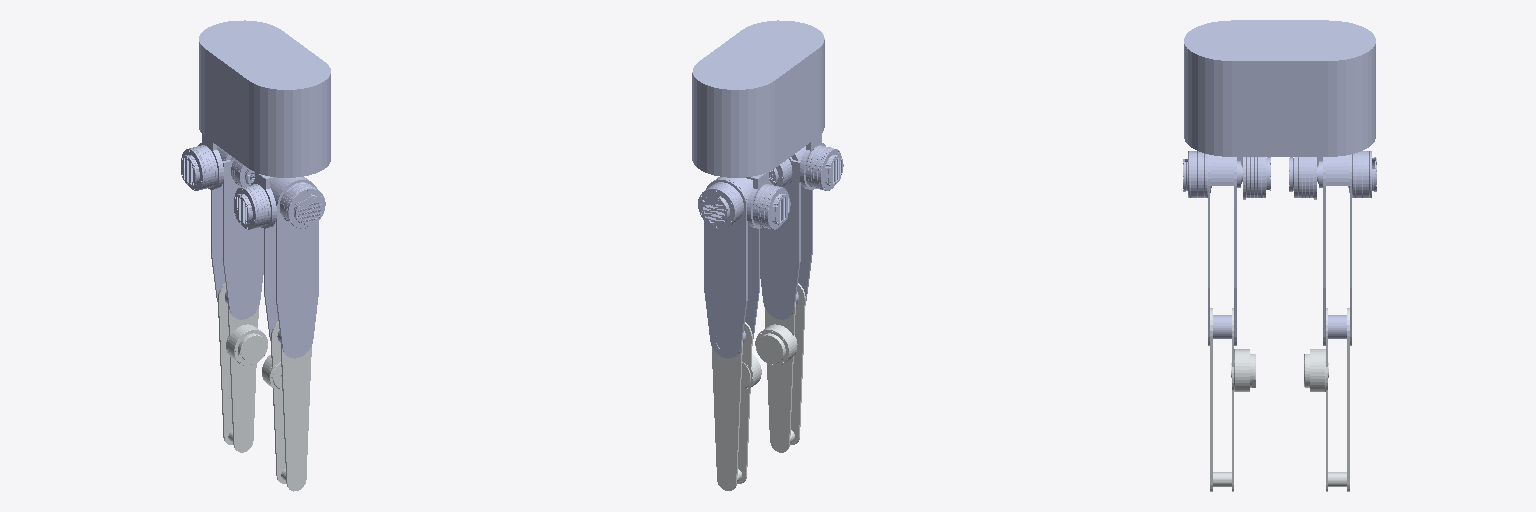
robot.urdf — leg7:
<?xml version="1.0" encoding="utf-8"?>
<!-- This URDF was automatically created by SolidWorks to URDF Exporter! Originally created by [author] ([email redacted]) 
     Commit Version: 1.6.0-4-g7f85cfe  Build Version: 1.6.7995.38578
     For more information, please see http://wiki.ros.org/sw_urdf_exporter -->
<robot
  name="leg7">
  <link
    name="base">
    <inertial>
      <origin
        xyz="-7.027E-14 -3.9404E-13 0.058682"
        rpy="0 0 0" />
      <mass
        value="16.0" />
      <inertia
        ixx="0.329343"
        ixy="0.000022"
        ixz="0"
        iyy="0.156277"
        iyz="0"
        izz="0.304508" />
    </inertial>
    <visual>
      <origin
        xyz="0 0 0"
        rpy="0 0 0" />
      <geometry>
        <mesh
          filename="meshes/base.STL" />
      </geometry>
      <material
        name="">
        <color
          rgba="0.79216 0.81961 0.93333 1" />
      </material>
    </visual>
    <collision>
      <origin
        xyz="0 0 0"
        rpy="0 0 0" />
      <geometry>
        <mesh
          filename="meshes/base.STL" />
      </geometry>
    </collision>
  </link>
  <link
    name="R_hip">
    <inertial>
      <origin
        xyz="-0.093816 -5.9543E-05 -0.064188"
        rpy="0 0 0" />
      <mass
        value="1.3589" />
      <inertia
        ixx="0.002069"
        ixy="-2.71E-06"
        ixz="-0.000414"
        iyy="0.00199"
        iyz="-2.6E-07"
        izz="0.0015048" />
    </inertial>
    <visual>
      <origin
        xyz="0 0 0"
        rpy="0 0 0" />
      <geometry>
        <mesh
          filename="meshes/R_hip.STL" />
      </geometry>
      <material
        name="">
        <color
          rgba="0.79216 0.81961 0.93333 1" />
      </material>
    </visual>
  </link>
  <joint
    name="R_hip_joint"
    type="revolute">
    <origin
      xyz="0 -0.12 -0.057"
      rpy="0 0 0" />
    <parent
      link="base" />
    <child
      link="R_hip" />
    <axis
      xyz="0 0 1" />
    <limit
      lower="-1.5"
      upper="1.5"
      effort="50"
      velocity="50" />
    <dynamics damping="0.0" friction="0.0"/>
  </joint>
  <link
    name="R_hip2">
    <inertial>
      <origin
        xyz="0.05961 0.064582 5.875E-05"
        rpy="0 0 0" />
      <mass
        value="1.3256" />
      <inertia
        ixx="0.001232"
        ixy="-0.00022"
        ixz="-1E-06"
        iyy="0.001819"
        iyz="-2E-06"
        izz="0.001515" />
    </inertial>
    <visual>
      <origin
        xyz="0 0 0"
        rpy="0 0 0" />
      <geometry>
        <mesh
          filename="meshes/R_hip2.STL" />
      </geometry>
      <material
        name="">
        <color
          rgba="0.79216 0.81961 0.93333 1" />
      </material>
    </visual>
  </link>
  <joint
    name="R_hip2_joint"
    type="revolute">
    <origin
      xyz="-0.0633 0 -0.07"
      rpy="0 0 0" />
    <parent
      link="R_hip" />
    <child
      link="R_hip2" />
    <axis
      xyz="1 0 0" />
    <limit
      lower="-1"
      upper="0.5"
      effort="50"
      velocity="50" />
    <dynamics damping="0.0" friction="0.0"/>
  </joint>
  <link
    name="R_thigh">
    <inertial>
      <origin
        xyz="1.4759E-14 -0.00035614 -0.11733"
        rpy="0 0 0" />
      <mass
        value="3.3" />
      <inertia
        ixx="0.054972"
        ixy="7E-06"
        ixz="-5E-06"
        iyy="0.05152"
        iyz="0.005096"
        izz="0.007973" />
    </inertial>
    <visual>
      <origin
        xyz="0 0 0"
        rpy="0 0 0" />
      <geometry>
        <mesh
          filename="meshes/R_thigh.STL" />
      </geometry>
      <material
        name="">
        <color
          rgba="0.79216 0.81961 0.93333 1" />
      </material>
    </visual>
    <collision>
        <origin rpy="0 0 0" xyz="0.0 0.0 -0.16"/>
        <geometry>
            <cylinder radius="0.040" length="0.29"/>
        </geometry><!---->
    </collision>
  </link>
  <joint
    name="R_thigh_joint"
    type="revolute">
    <origin
      xyz="0.0633 0 0"
      rpy="0 0 0" />
    <parent
      link="R_hip2" />
    <child
      link="R_thigh" />
    <axis
      xyz="0 1 0" />
    <limit
      lower="-1.7"
      upper="0"
      effort="100"
      velocity="50" />
    <dynamics damping="0.0" friction="0.0"/>
  </joint>
  <link
    name="R_calf">
    <inertial>
      <origin
        xyz="0 0 -0.18354"
        rpy="0 0 0" />
      <mass
        value="0.75" />
      <inertia
        ixx="0.010955"
        ixy="0"
        ixz="0"
        iyy="0.010865"
        iyz="0"
        izz="0.000614" />
    </inertial>
    <visual>
      <origin
        xyz="0 0 0"
        rpy="0 0 0" />
      <geometry>
        <mesh
          filename="meshes/R_calf.STL" />
      </geometry>
      <material
        name="">
        <color
          rgba="0.89804 0.91765 0.92941 1" />
      </material>
    </visual>
    <collision>
        <origin rpy="0 0 0" xyz="0.0 0.0 -0.16"/>
        <geometry>
            <cylinder radius="0.040" length="0.29"/>
        </geometry>
    </collision>
  </link>
  <joint
    name="R_calf_joint"
    type="revolute">
    <origin
      xyz="0 0 -0.35"
      rpy="0 0 0" />
    <parent
      link="R_thigh" />
    <child
      link="R_calf" />
    <axis
      xyz="0 1 0" />
    <limit
      lower="0"
      upper="2"
      effort="250"
      velocity="50" />
    <dynamics damping="0.0" friction="0.0"/>
  </joint>
  <link
    name="R_toe">
    <inertial>
      <origin
        xyz="0.016891 0 -0.018446"
        rpy="0 0 0" />
      <mass
        value="0.4" />
      <inertia
        ixx="0.000165"
        ixy="0"
        ixz="0.000078"
        iyy="0.000979"
        iyz="0"
        izz="0.000920" />
    </inertial>
    <visual>
      <origin
        xyz="0 0 0"
        rpy="0 0 0" />
      <geometry>
        <mesh
          filename="meshes/R_toe.STL" />
      </geometry>
      <material
        name="">
        <color
          rgba="0.89804 0.91765 0.92941 1" />
      </material>
    </visual>
    <collision>
      <origin
        xyz="0 0 0"
        rpy="0 0 0" />
      <geometry>
        <mesh
          filename="meshes/R_toe.STL" />
      </geometry>
    </collision>
  </link>
  <joint
    name="R_toe_joint"
    type="revolute">
    <origin
      xyz="0 0 -0.35"
      rpy="0 0 0" />
    <parent
      link="R_calf" />
    <child
      link="R_toe" />
    <axis
      xyz="0 1 0" />
    <limit
      lower="-0.8"
      upper="0.8"
      effort="100"
      velocity="50" />
  </joint>
  <link
    name="L_hip">
    <inertial>
      <origin
        xyz="-0.093816 -5.9543E-05 -0.064188"
        rpy="0 0 0" />
      <mass
        value="1.3589" />
      <inertia
        ixx="0.002069"
        ixy="-2.71E-06"
        ixz="-0.000414"
        iyy="0.00199"
        iyz="-2.6E-07"
        izz="0.0015048" />
    </inertial>
    <visual>
      <origin
        xyz="0 0 0"
        rpy="0 0 0" />
      <geometry>
        <mesh
          filename="meshes/L_hip.STL" />
      </geometry>
      <material
        name="">
        <color
          rgba="0.79216 0.81961 0.93333 1" />
      </material>
    </visual>
  </link>
  <joint
    name="L_hip_joint"
    type="revolute">
    <origin
      xyz="0 0.12 -0.057"
      rpy="0 0 0" />
    <parent
      link="base" />
    <child
      link="L_hip" />
    <axis
      xyz="0 0 1" />
    <limit
      lower="-1.5"
      upper="1.5"
      effort="50"
      velocity="50" />
    <dynamics damping="0.0" friction="0.0"/>
  </joint>
  <link
    name="L_hip2">
    <inertial>
      <origin
        xyz="0.059646 -0.064582 5.875E-05"
        rpy="0 0 0" />
      <mass
        value="1.3256" />
      <inertia
        ixx="0.001232"
        ixy="0.00022"
        ixz="6.3E-07"
        iyy="0.001819"
        iyz="2.44E-06"
        izz="0.001515" />
    </inertial>
    <visual>
      <origin
        xyz="0 0 0"
        rpy="0 0 0" />
      <geometry>
        <mesh
          filename="meshes/L_hip2.STL" />
      </geometry>
      <material
        name="">
        <color
          rgba="0.79216 0.81961 0.93333 1" />
      </material>
    </visual>
  </link>
  <joint
    name="L_hip2_joint"
    type="revolute">
    <origin
      xyz="-0.0633 0 -0.07"
      rpy="0 0 0" />
    <parent
      link="L_hip" />
    <child
      link="L_hip2" />
    <axis
      xyz="1 0 0" />
    <limit
      lower="-0.5"
      upper="1"
      effort="50"
      velocity="50" />
    <dynamics damping="0.0" friction="0.0"/>
  </joint>
  <link
    name="L_thigh">
    <inertial>
      <origin
        xyz="-4.3348E-13 0.00035614 -0.11733"
        rpy="0 0 0" />
      <mass
        value="3.3" />
      <inertia
        ixx="0.054972"
        ixy="7E-06"
        ixz="5E-06"
        iyy="0.05152"
        iyz="-0.005096"
        izz="0.007973" />
    </inertial>
    <visual>
      <origin
        xyz="0 0 0"
        rpy="0 0 0" />
      <geometry>
        <mesh
          filename="meshes/L_thigh.STL" />
      </geometry>
      <material
        name="">
        <color
          rgba="0.79216 0.81961 0.93333 1" />
      </material>
    </visual>
    <collision>
        <origin rpy="0 0 0" xyz="0.0 0.0 -0.16"/>
        <geometry>
            <cylinder radius="0.040" length="0.29"/>
        </geometry>
    </collision>
  </link>
  <joint
    name="L_thigh_joint"
    type="revolute">
    <origin
      xyz="0.0633 0 0"
      rpy="0 0 0" />
    <parent
      link="L_hip2" />
    <child
      link="L_thigh" />
    <axis
      xyz="0 1 0" />
    <limit
      lower="-1.7"
      upper="0"
      effort="100"
      velocity="50" />
    <dynamics damping="0.0" friction="0.0"/>
  </joint>
  <link
    name="L_calf">
    <inertial>
      <origin
        xyz="0 0 -0.18354"
        rpy="0 0 0" />
      <mass
        value="0.75" />
      <inertia
        ixx="0.010955"
        ixy="0"
        ixz="0"
        iyy="0.010865"
        iyz="0"
        izz="0.000614" />
    </inertial>
    <visual>
      <origin
        xyz="0 0 0"
        rpy="0 0 0" />
      <geometry>
        <mesh
          filename="meshes/L_calf.STL" />
      </geometry>
      <material
        name="">
        <color
          rgba="0.89804 0.91765 0.92941 1" />
      </material>
    </visual>
    <collision>
        <origin rpy="0 0 0" xyz="0.0 0.0 -0.16"/>
        <geometry>
            <cylinder radius="0.040" length="0.29"/>
        </geometry>
    </collision>
  </link>
  <joint
    name="L_calf_joint"
    type="revolute">
    <origin
      xyz="0 0 -0.35"
      rpy="0 0 0" />
    <parent
      link="L_thigh" />
    <child
      link="L_calf" />
    <axis
      xyz="0 1 0" />
    <limit
      lower="0"
      upper="2"
      effort="250"
      velocity="50" />
  </joint>
  <link
    name="L_toe">
    <inertial>
      <origin
        xyz="0.016891 0 -0.018446"
        rpy="0 0 0" />
      <mass
        value="0.4" />
      <inertia
        ixx="0.000165"
        ixy="0"
        ixz="0.000078"
        iyy="0.000979"
        iyz="0"
        izz="0.000920" />
    </inertial>
    <visual>
      <origin
        xyz="0 0 0"
        rpy="0 0 0" />
      <geometry>
        <mesh
          filename="meshes/L_toe.STL" />
      </geometry>
      <material
        name="">
        <color
          rgba="0.89804 0.91765 0.92941 1" />
      </material>
    </visual>
    <collision>
      <origin
        xyz="0 0 0"
        rpy="0 0 0" />
      <geometry>
        <mesh
          filename="meshes/L_toe.STL" />
      </geometry>
    </collision>
  </link>
  <joint
    name="L_toe_joint"
    type="revolute">
    <origin
      xyz="0 0 -0.35"
      rpy="0 0 0" />
    <parent
      link="L_calf" />
    <child
      link="L_toe" />
    <axis
      xyz="0 1 0" />
    <limit
      lower="-0.8"
      upper="0.8"
      effort="100"
      velocity="50" />
  </joint>
</robot>

--- What the picture shows (computed from the rendered views, not written in the file) ---
The picture shows the robot from 3 angles, left to right: view 1: azimuth 30°, elevation 25°; view 2: azimuth 150°, elevation 25°; view 3: azimuth 270°, elevation 25°; orthographic projection.
Model leg7 with 11 links and 10 joints (10 revolute), rooted at base, posed every joint at zero.
Links seen in each view (by area): view 1: base, R_thigh, L_thigh, L_calf, R_calf, R_hip, L_hip, L_hip2; view 2: base, L_thigh, R_thigh, R_calf, L_calf, L_hip, R_hip, R_hip2; view 3: base, L_thigh, R_thigh, R_calf, L_calf, L_hip2, R_hip2.
Link boxes in pixels (x1,y1,x2,y2): base: [199, 20, 330, 177]; R_thigh: [264, 177, 325, 358]; L_thigh: [211, 146, 263, 319]; L_calf: [218, 283, 267, 452]; R_calf: [262, 321, 311, 491]; R_hip: [234, 172, 276, 229]; L_hip: [181, 134, 223, 190]; L_hip2: [222, 157, 254, 186]; base: [692, 20, 824, 177]; L_thigh: [698, 177, 759, 358]; R_thigh: [760, 146, 812, 319]; R_calf: [755, 283, 805, 452]; L_calf: [712, 322, 761, 490]; L_hip: [746, 172, 790, 229]; R_hip: [799, 134, 843, 190]; R_hip2: [769, 157, 800, 186]; base: [1184, 20, 1375, 156]; L_thigh: [1318, 151, 1376, 345]; R_thigh: [1183, 151, 1241, 345]; R_calf: [1210, 308, 1255, 491]; L_calf: [1304, 308, 1349, 491]; L_hip2: [1289, 157, 1322, 199]; R_hip2: [1237, 157, 1270, 199].
Bounding box of the posed robot: 0.233 × 0.4038 × 1.03 m (x, y, z).
9 mesh visuals loaded from 11 distinct referenced files (9 binary STL); not drawn: 2 (reference not matched to a file when rendering).
